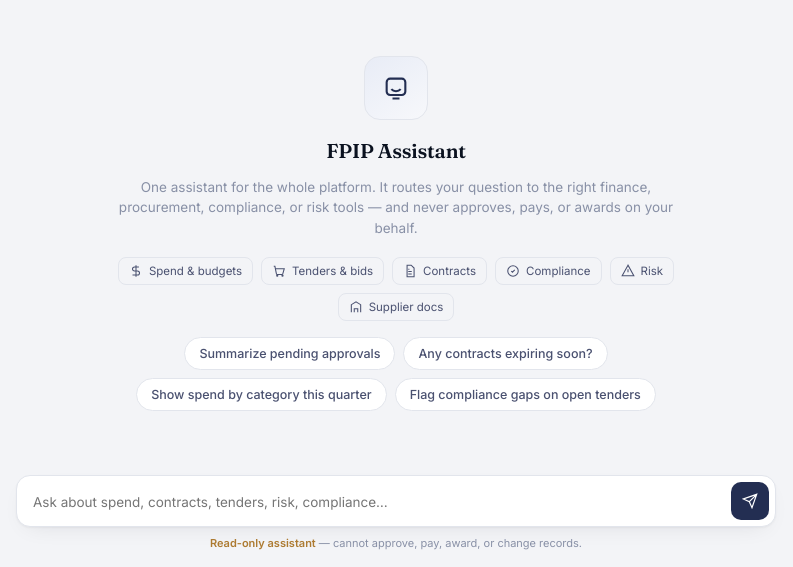
Chat › routes the question to the right specialist and streams the reply into view
The image size is (793, 567).
Step 1. Type "Show invoice exceptions" into the text box with placeholder "Ask about spend, contracts, tenders, risk, compliance…" → coordinates (378, 502), box [33, 484, 723, 520]
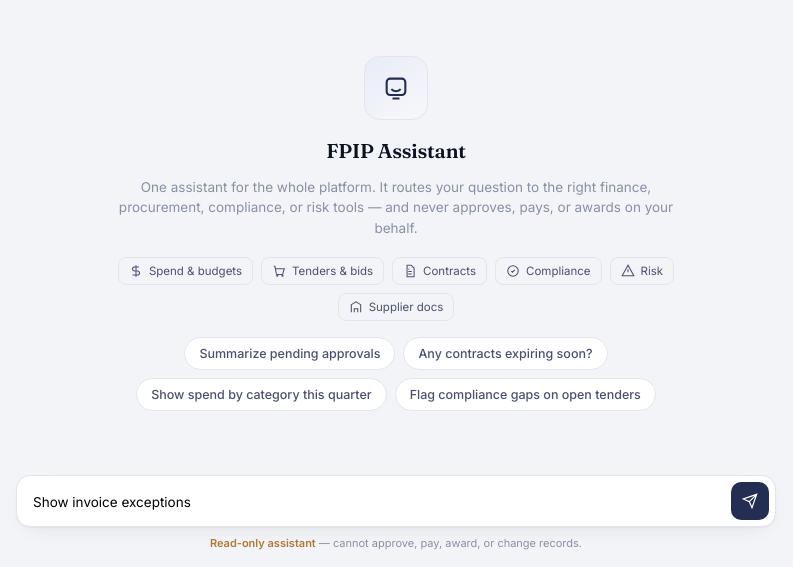
Step 2. Click the button named "send" → coordinates (750, 501), box [731, 482, 769, 520]
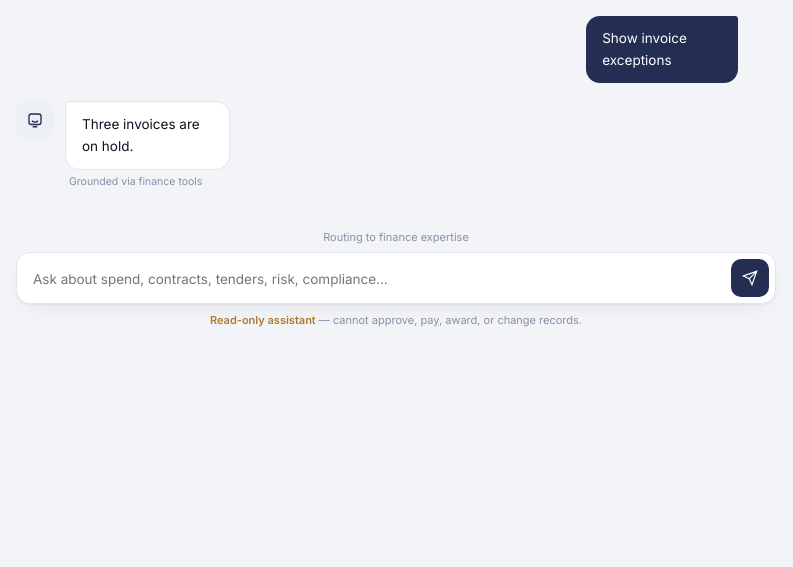
Check: the text "Show invoice exceptions" is shown, box [586, 16, 738, 83]
Check: the text "Three invoices are on hold." is shown, box [65, 101, 230, 170]
Check: the text "Grounded via finance tools" is shown, box [69, 175, 202, 188]
